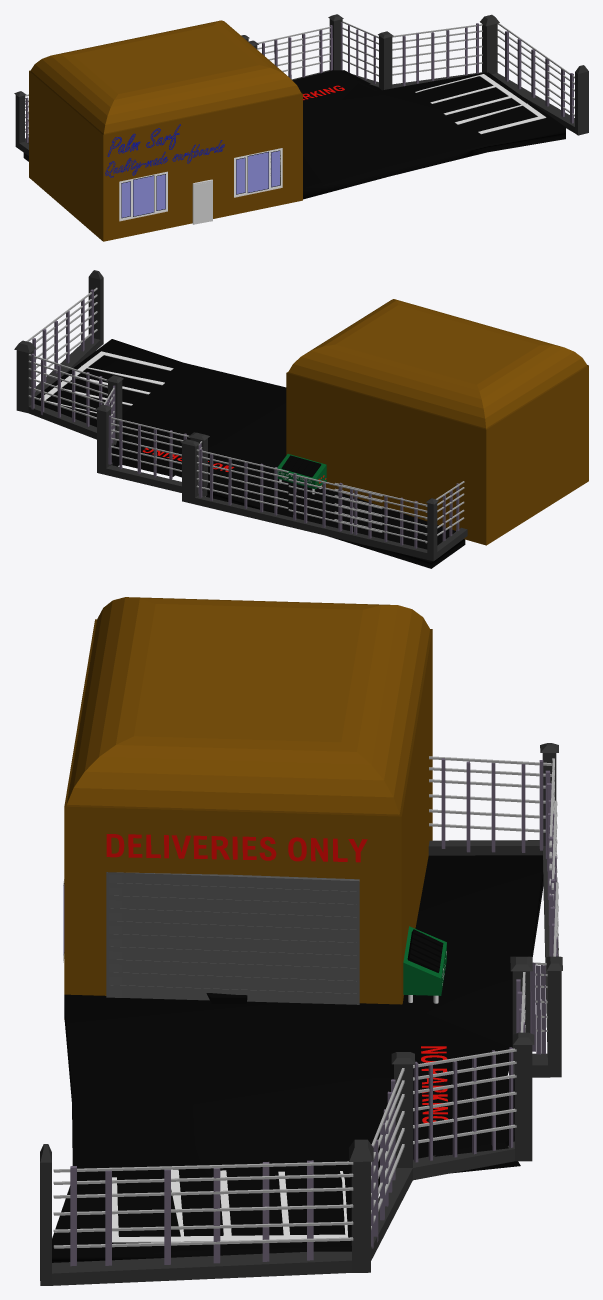
The model's file is PalmSurf.fbx.
3 views of the same model, one above another, from view 1: azimuth 30°, elevation 25°; view 2: azimuth 150°, elevation 25°; view 3: azimuth 270°, elevation 25° (orthographic). The views are drawn at different scales.
Parts seen in each view (by area): view 1: PalmSurf, PalmSurfDeliveryZone, Fence, FenceGratingHorizon.003, FenceGratingHorizon, Window, Window.001, FenceGratingHorizon.002, ParkingBays, FenceGratingHorizon.001, PALMSURFSLOGAN, Door (+1 smaller); view 2: PalmSurf, PalmSurfDeliveryZone, Fence, FenceGratingHorizon.006, FenceGratingHorizon, FenceGratingHorizon.007, FenceGratingHorizon.003, FenceGratingHorizon.008, FenceGratingHorizon.002, ParkingBays, FenceGratingHorizon.009, Cube (+1 smaller); view 3: PalmSurf, PalmSurfDeliveryZone, PalmSurfDeliveryDoor, Fence, FenceGratingHorizon.003, FenceGratingHorizon.001, FenceGratingHorizon.009, DELIVERIESONLY, FenceGratingHorizon, ParkingBays, Cube, FenceGratingHorizon.004 (+3 smaller).
Boxes of the visible parts, x1,y1,x2,y2 form: PalmSurf: (29, 20, 302, 241); PalmSurfDeliveryZone: (23, 70, 565, 199); Fence: (14, 14, 588, 155); FenceGratingHorizon.003: (497, 23, 574, 123); FenceGratingHorizon: (392, 23, 482, 86); Window: (119, 171, 167, 221); Window.001: (234, 148, 282, 197); FenceGratingHorizon.002: (257, 25, 332, 79); ParkingBays: (415, 74, 546, 134); FenceGratingHorizon.001: (340, 21, 378, 83); PALMSURFSLOGAN: (105, 140, 224, 177); Door: (195, 182, 211, 224); PalmSurf: (286, 299, 588, 545); PalmSurfDeliveryZone: (34, 339, 465, 568); Fence: (14, 270, 467, 561); FenceGratingHorizon.006: (196, 449, 288, 515); FenceGratingHorizon: (28, 353, 107, 426); FenceGratingHorizon.007: (288, 473, 382, 534); FenceGratingHorizon.003: (26, 287, 97, 392); FenceGratingHorizon.008: (334, 482, 427, 548); FenceGratingHorizon.002: (108, 415, 189, 479); ParkingBays: (40, 351, 173, 413); FenceGratingHorizon.009: (425, 481, 464, 543); Cube: (277, 454, 326, 489); PalmSurf: (64, 597, 432, 1019); PalmSurfDeliveryZone: (52, 855, 543, 1262); PalmSurfDeliveryDoor: (106, 872, 359, 1004); Fence: (40, 743, 562, 1285); FenceGratingHorizon.003: (53, 1160, 353, 1266); FenceGratingHorizon.001: (413, 1047, 516, 1162); FenceGratingHorizon.009: (429, 756, 551, 852); DELIVERIESONLY: (106, 834, 367, 862); FenceGratingHorizon: (371, 1068, 404, 1248); ParkingBays: (112, 1169, 348, 1242); Cube: (403, 926, 446, 995); FenceGratingHorizon.004: (530, 962, 547, 1054).
Bounding box in the file's own units: 2522 × 693 × 1210.
